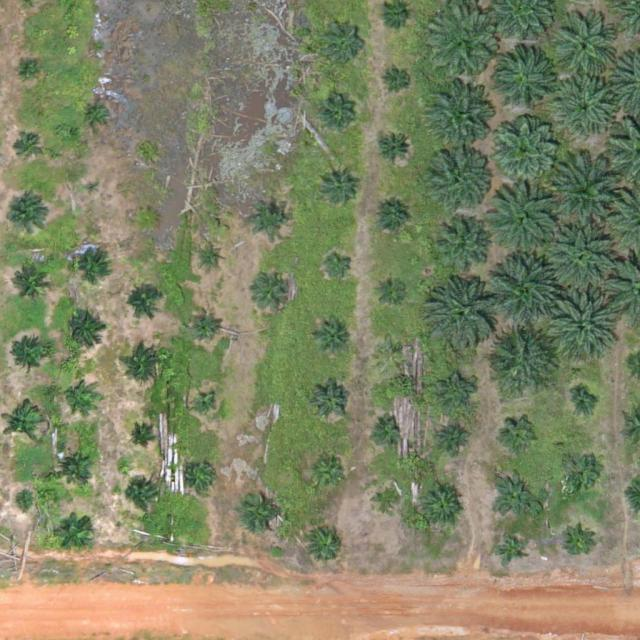Healthy: (550, 154, 628, 233), (424, 276, 502, 355), (490, 188, 561, 259), (485, 325, 556, 396), (489, 116, 560, 187), (429, 11, 500, 82), (547, 222, 617, 293), (545, 290, 616, 360), (491, 254, 562, 324), (425, 85, 495, 156), (555, 19, 618, 82), (556, 77, 618, 140), (429, 146, 491, 209), (496, 49, 558, 111), (435, 219, 490, 274), (2, 402, 49, 449)
Small: (4, 195, 51, 243), (9, 259, 56, 307), (239, 489, 286, 537), (7, 338, 54, 385), (321, 19, 368, 66), (419, 483, 466, 530), (492, 472, 539, 519), (250, 198, 290, 238), (72, 243, 112, 283), (257, 271, 297, 310), (126, 282, 165, 322), (65, 311, 105, 350), (58, 512, 97, 552), (57, 447, 97, 486), (318, 98, 358, 137), (319, 167, 358, 207), (437, 373, 476, 413), (307, 527, 347, 566), (559, 453, 599, 492), (373, 199, 412, 239), (307, 453, 347, 492), (375, 129, 414, 169), (126, 345, 165, 384), (312, 316, 351, 355), (312, 382, 351, 421), (502, 417, 541, 456), (563, 529, 594, 561), (441, 422, 472, 454), (496, 535, 527, 567), (377, 272, 408, 304), (376, 333, 407, 365), (370, 414, 401, 446), (324, 249, 355, 281), (13, 132, 44, 164), (63, 380, 94, 411), (126, 481, 157, 512), (189, 461, 220, 492), (373, 486, 404, 517), (190, 310, 221, 341), (383, 66, 414, 97), (84, 100, 115, 131), (200, 246, 224, 270), (194, 395, 218, 419), (12, 491, 36, 515), (136, 209, 160, 233), (573, 392, 596, 416), (129, 427, 152, 451), (21, 61, 37, 77), (86, 180, 102, 195)
